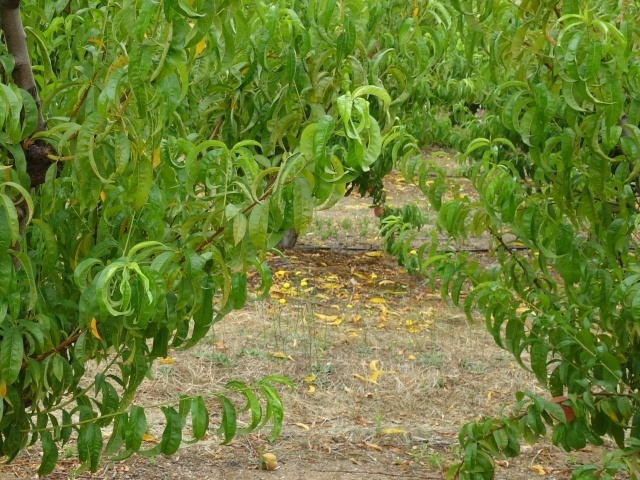peach: (549, 394, 577, 425)
